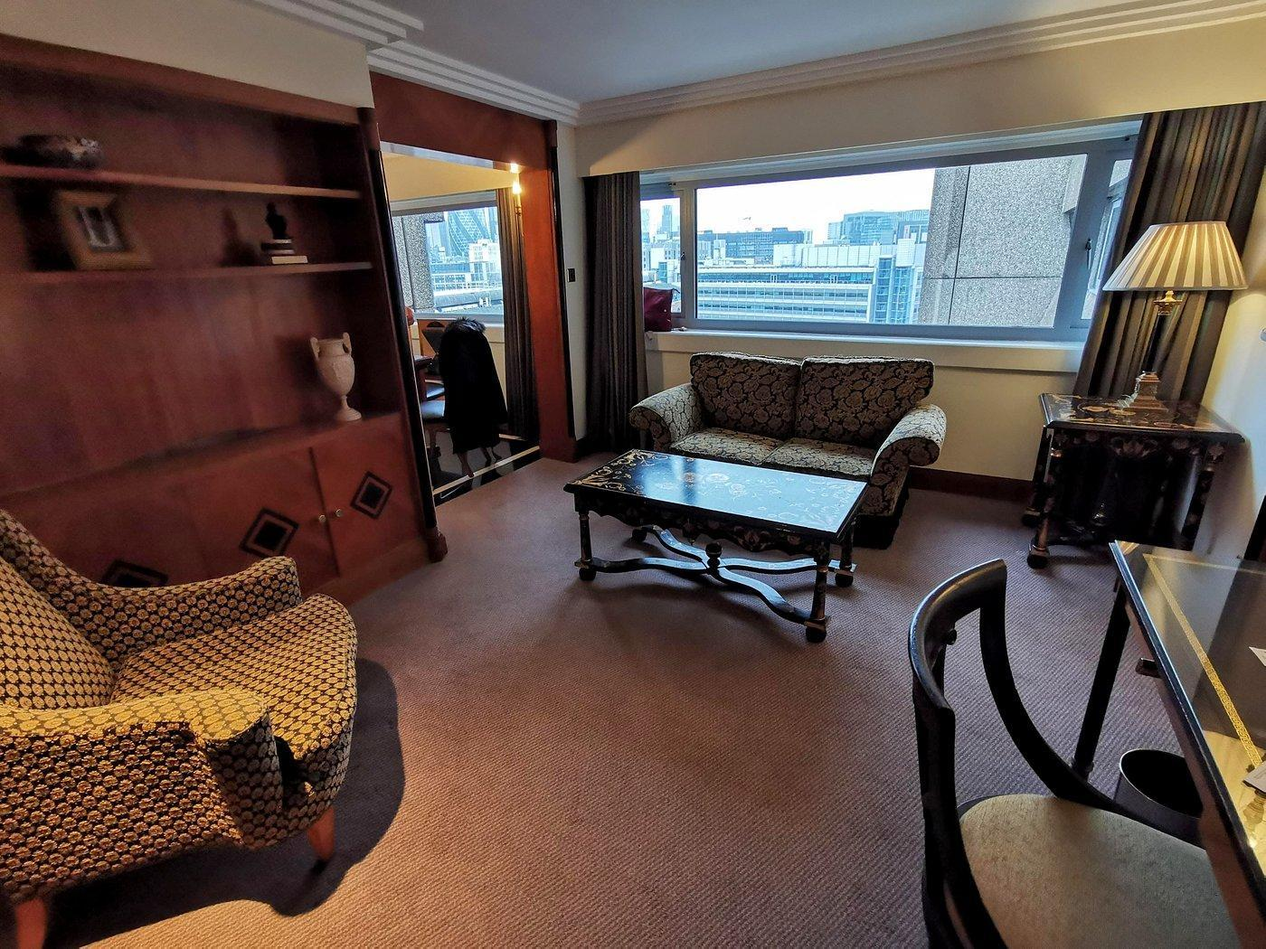chair: (0, 509, 362, 919), (922, 592, 1218, 949)
clean_floor: (414, 642, 909, 949)
lamp: (1103, 215, 1251, 426)
organized table: (591, 456, 856, 624)
